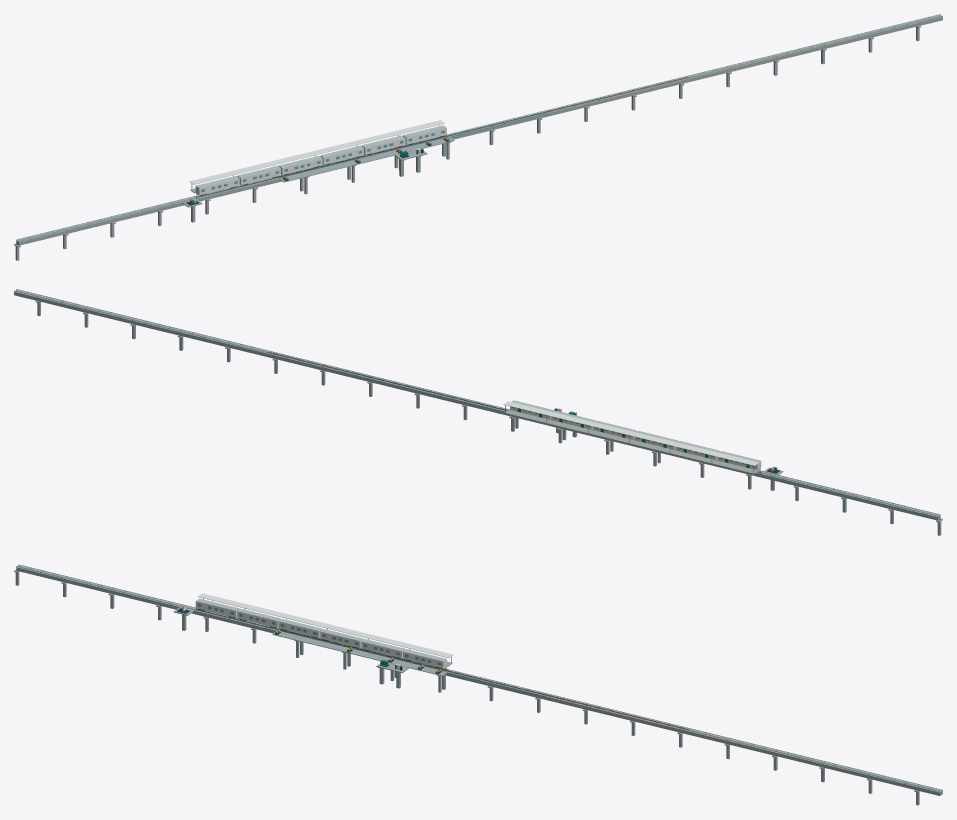
Rendered from station-overview.glb.
3 renders of one model, top to bottom at view 1: azimuth 30°, elevation 25°; view 2: azimuth 150°, elevation 25°; view 3: azimuth 330°, elevation 25°, orthographic.
Parts seen in each view (by area): view 1: station-deck/envelope, canopy/roof, capture-service-deck, running-rail/right/web, running-rail/right/head; view 2: station-deck/envelope, canopy/roof, platform/deck; view 3: station-deck/envelope, canopy/roof, capture-service-deck, running-rail/right/web, running-rail/right/head, running-rail/left/web, running-rail/left/head.
Part boxes in pixels (x1,y1,x2,y2): station-deck/envelope: (16, 15, 942, 245); canopy/roof: (189, 120, 444, 184); capture-service-deck: (279, 137, 454, 182); running-rail/right/web: (19, 16, 941, 241); running-rail/right/head: (19, 15, 941, 240); station-deck/envelope: (14, 290, 940, 520); canopy/roof: (503, 401, 759, 465); platform/deck: (504, 410, 758, 474); station-deck/envelope: (16, 565, 942, 795); canopy/roof: (197, 593, 453, 657); capture-service-deck: (272, 631, 446, 676); running-rail/right/web: (17, 566, 939, 791); running-rail/right/head: (16, 566, 939, 791); running-rail/left/web: (20, 565, 942, 790); running-rail/left/head: (19, 564, 941, 789).
Bounding box in the file's own units: 391 × 12.34 × 13.92.
